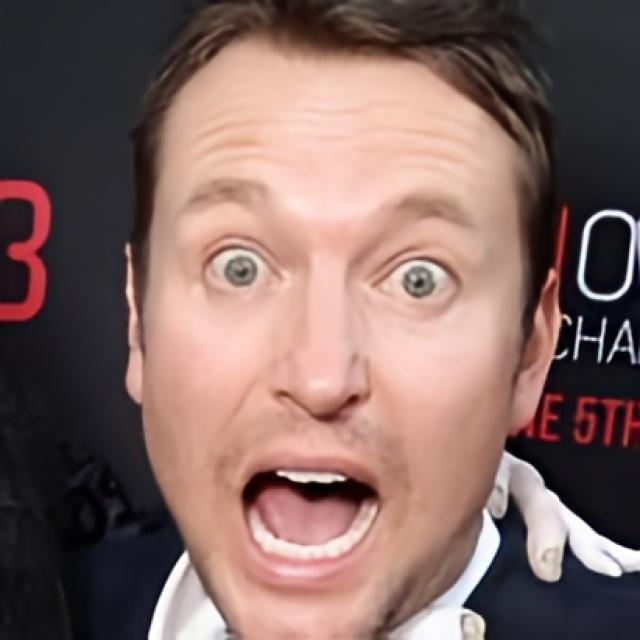fear: (143, 37, 525, 640)
